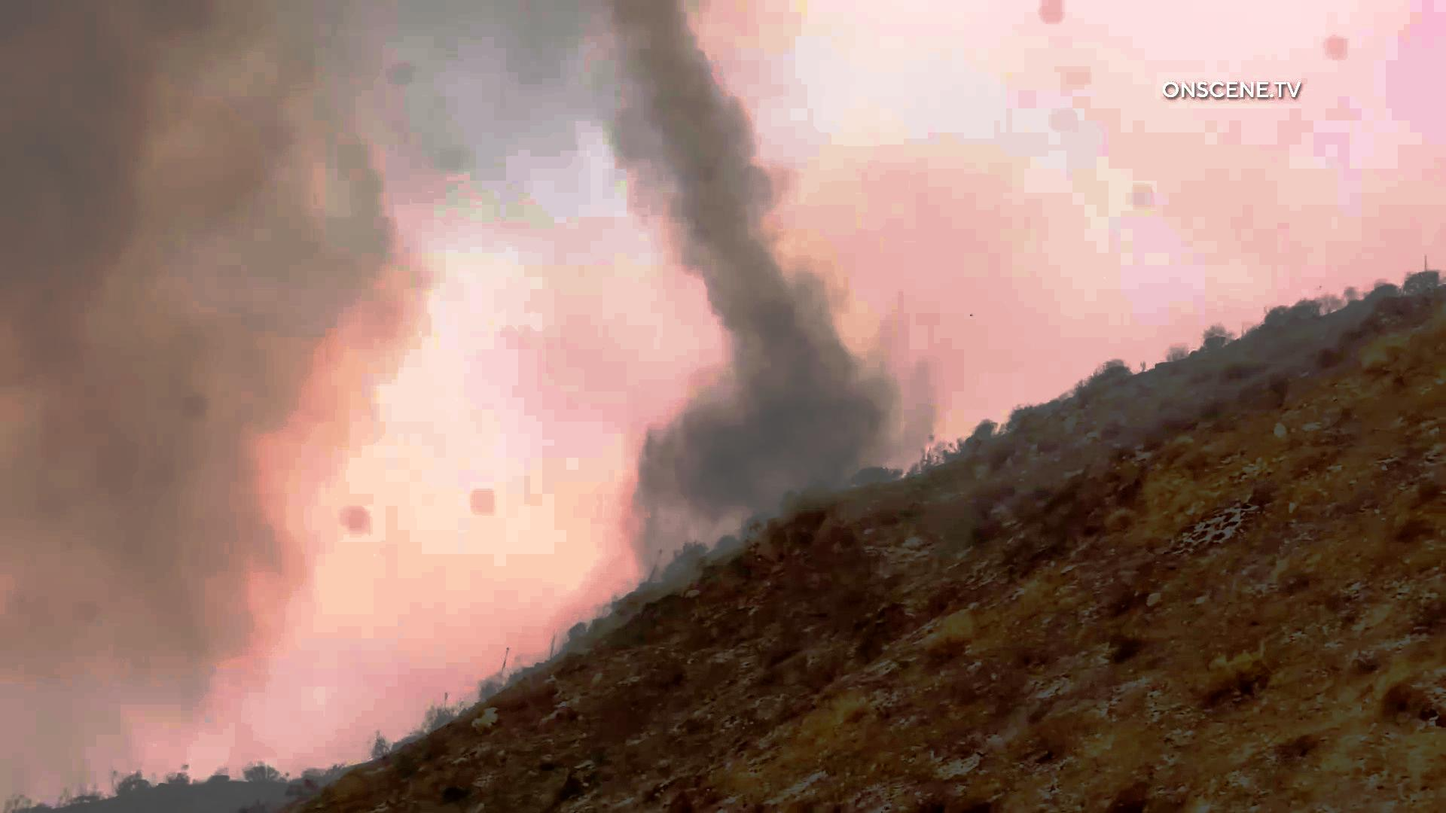smoke: (571, 14, 916, 485)
